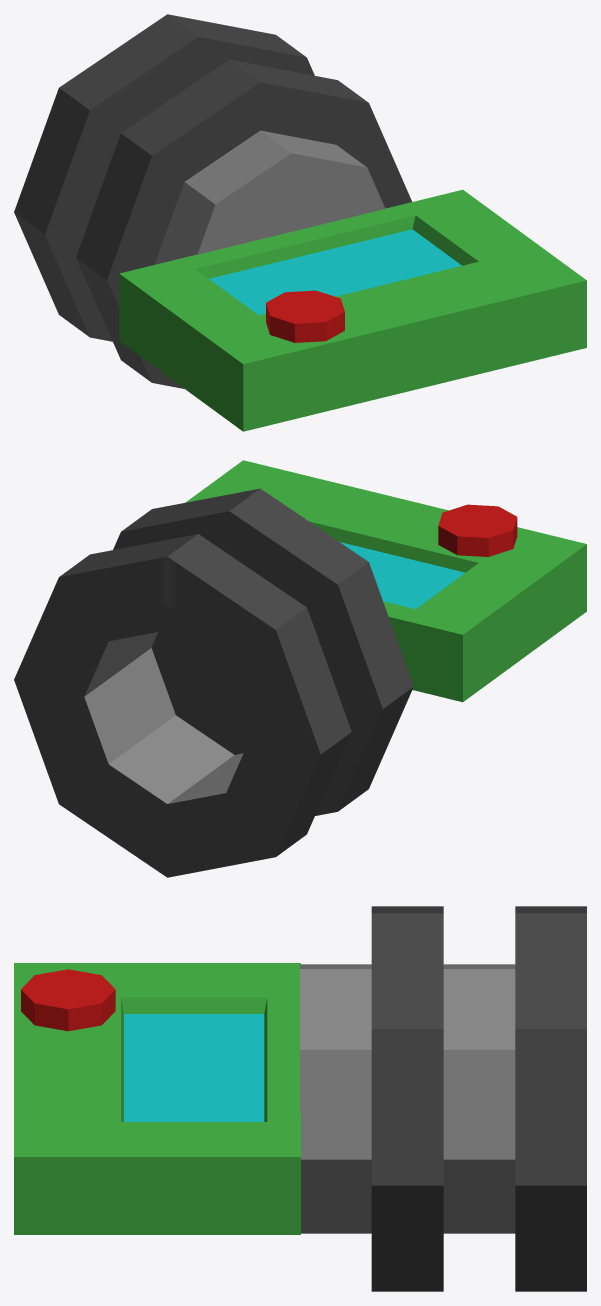
Rendered from Item_ModuleBomber.fbx.
3 renders of one model, top to bottom at view 1: azimuth 30°, elevation 25°; view 2: azimuth 150°, elevation 25°; view 3: azimuth 270°, elevation 25°, orthographic. The views are drawn at different scales.
Parts seen in each view (by area): view 1: BomberCannon, ModuleBase_Bomber; view 2: BomberCannon, ModuleBase_Bomber; view 3: BomberCannon, ModuleBase_Bomber.
Part boxes in pixels (left/top/right/bottom): BomberCannon: left=14, top=14, right=411, bottom=388; ModuleBase_Bomber: left=119, top=189, right=586, bottom=431; BomberCannon: left=14, top=488, right=413, bottom=877; ModuleBase_Bomber: left=186, top=460, right=586, bottom=702; BomberCannon: left=300, top=906, right=586, bottom=1291; ModuleBase_Bomber: left=14, top=963, right=300, bottom=1234.
Size of the model in its own units: 320 by 286 by 399.
